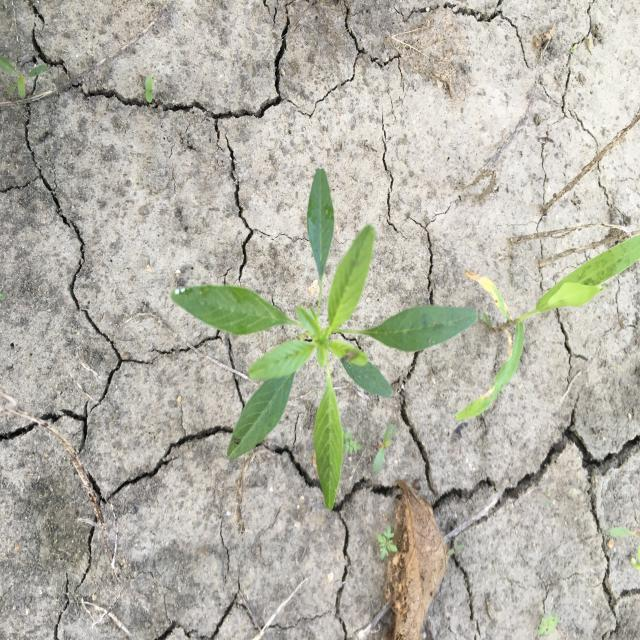Waterhemp: (168, 166, 479, 514)
